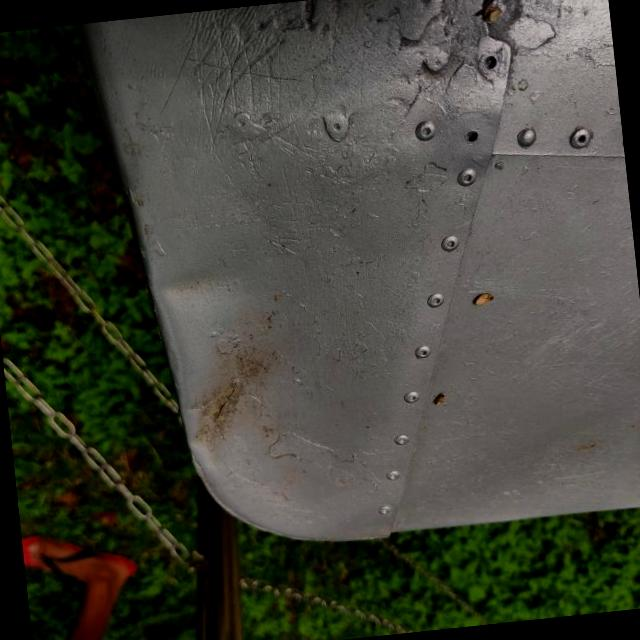dent: (120, 221, 270, 350)
scratch: (161, 1, 308, 138)
